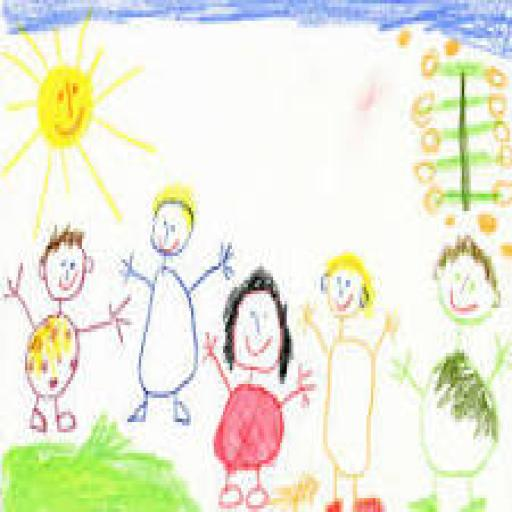person: (387, 231, 512, 508), (115, 176, 239, 431), (3, 223, 131, 452), (203, 262, 315, 509), (297, 249, 401, 512)
